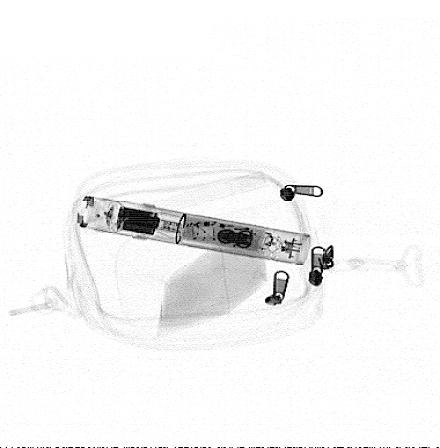Baton: (74, 194, 313, 267)
